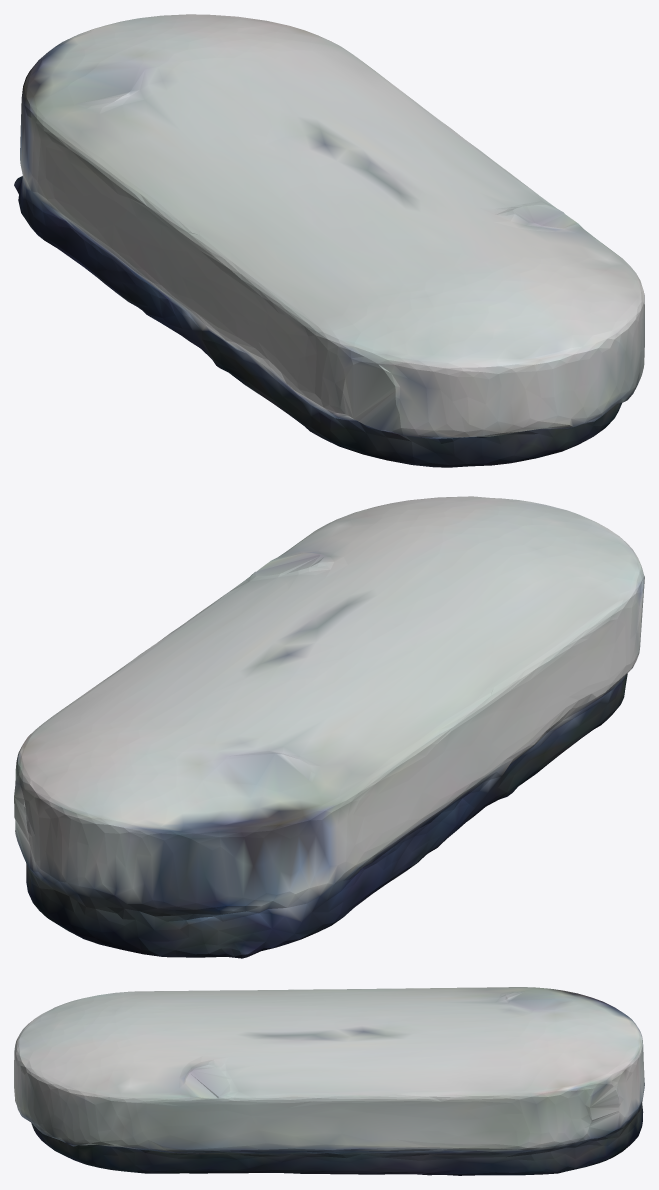
Rendered from scan.obj.
The picture shows the model from 3 angles, top to bottom: view 1: azimuth 30°, elevation 25°; view 2: azimuth 150°, elevation 25°; view 3: azimuth 270°, elevation 25°; orthographic projection. The views are drawn at different scales.
Parts seen in each view (by area): view 1: scan.ply; view 2: scan.ply; view 3: scan.ply.
Part boxes in pixels (<box>): scan.ply: <box>14,14,644,467</box>; scan.ply: <box>14,496,644,958</box>; scan.ply: <box>14,987,644,1175</box>.
Bounding box in the file's own units: 0.041 × 0.0186 × 0.101.
